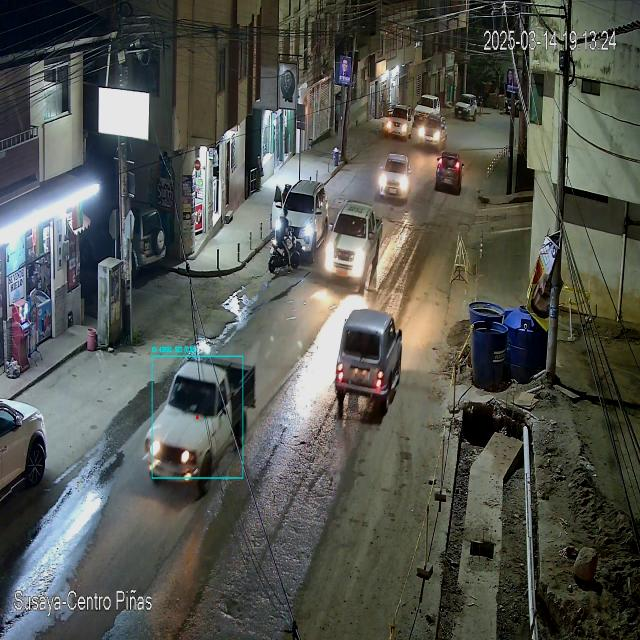CMT: (144, 361, 254, 490), (326, 203, 382, 290)
